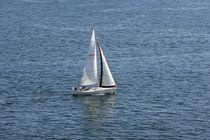fanchuan: (70, 29, 121, 100)
